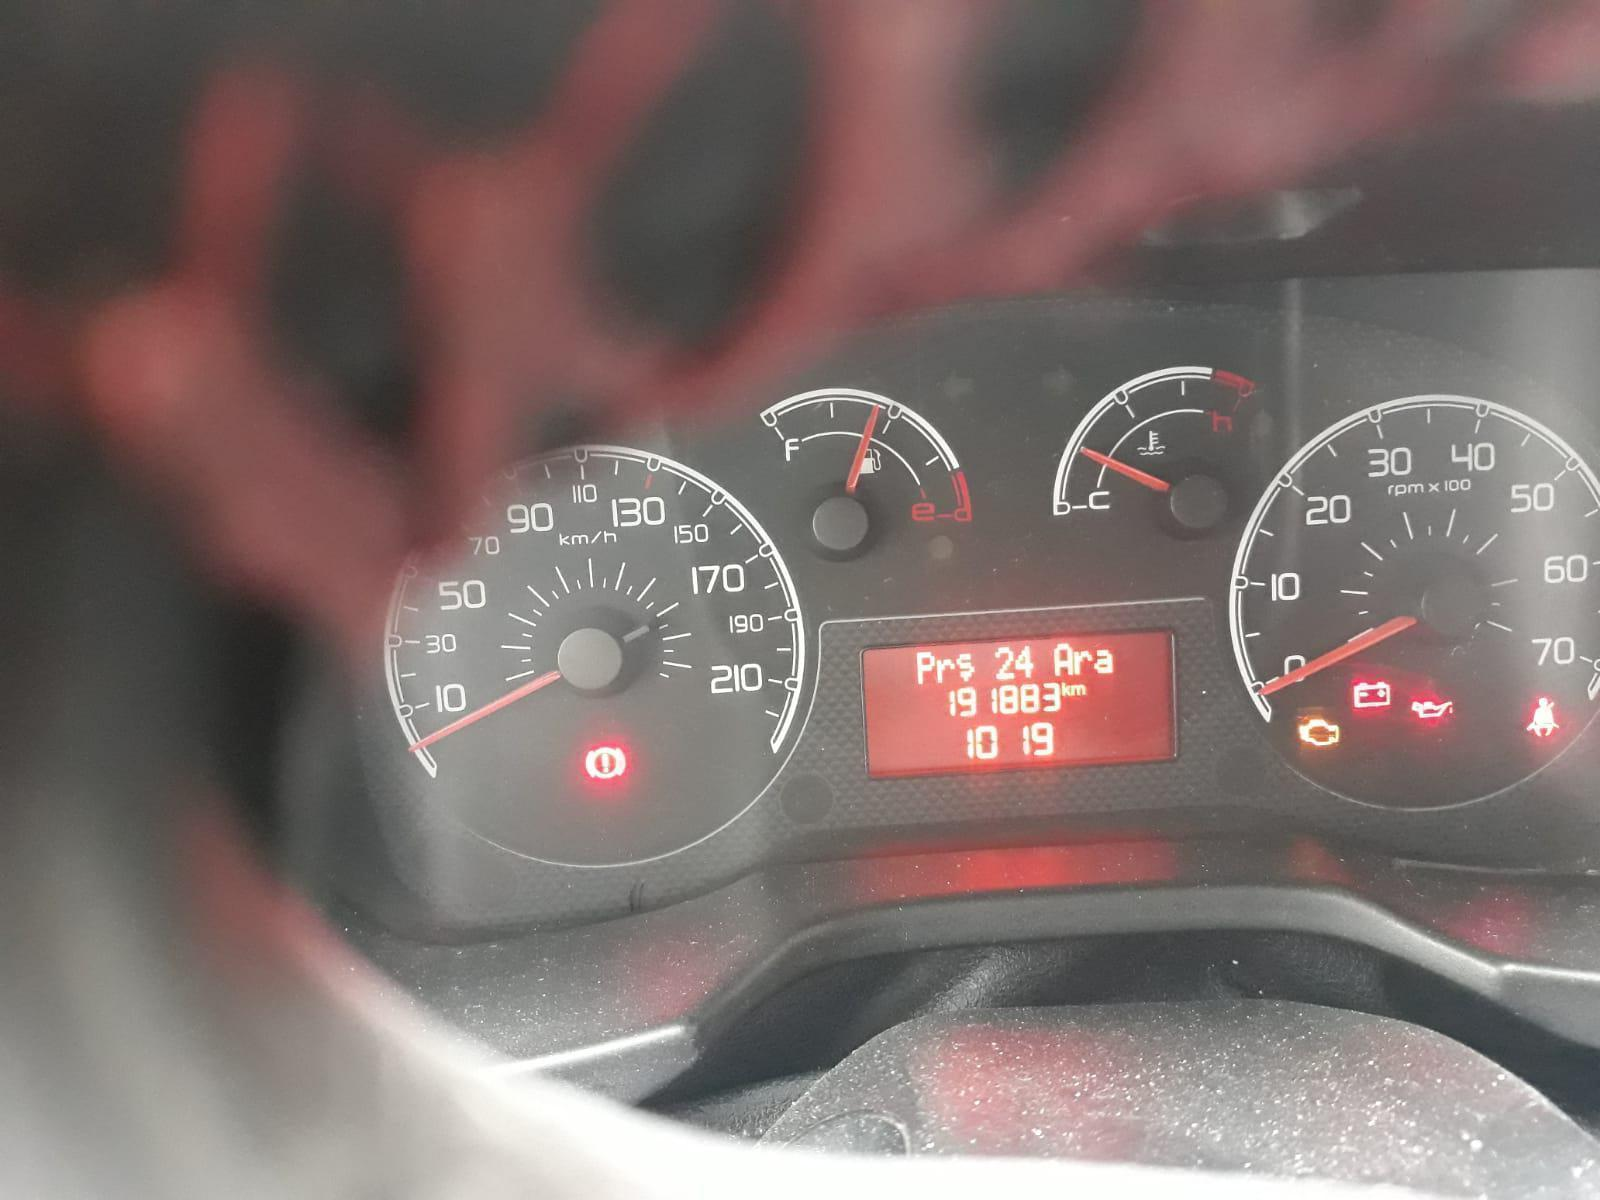0: (975, 724, 999, 760)
1: (1020, 722, 1031, 759), (988, 684, 998, 717), (965, 726, 974, 760), (947, 687, 956, 718)
2: (993, 645, 1014, 679)
3: (1042, 681, 1060, 712)
4: (1014, 642, 1033, 679)
8: (1020, 682, 1041, 713), (999, 683, 1018, 716)
9: (1031, 722, 1054, 758), (957, 684, 976, 717)
X: (1052, 642, 1072, 677), (916, 649, 935, 686), (1094, 648, 1114, 674), (1073, 648, 1092, 676), (956, 652, 974, 681), (936, 657, 954, 684), (1070, 683, 1086, 697), (1061, 679, 1070, 697)
odometer: (855, 624, 1186, 784)
